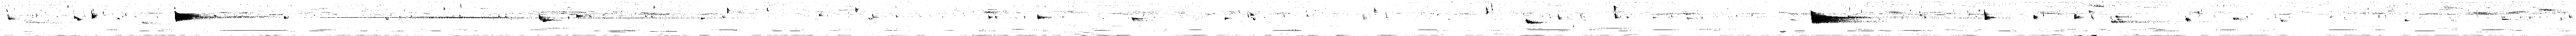meteor: (1810, 10, 1863, 23), (174, 10, 214, 21), (2111, 18, 2147, 23), (539, 13, 552, 23), (1526, 18, 1543, 25), (1985, 10, 1994, 20), (90, 10, 99, 20), (1037, 15, 1051, 20), (1132, 16, 1143, 21), (8, 13, 16, 20), (2075, 13, 2083, 20), (74, 16, 82, 21), (987, 15, 994, 20), (1557, 13, 1562, 20), (2185, 18, 2192, 23), (872, 13, 879, 18), (2280, 18, 2288, 21), (1615, 13, 1620, 18), (2032, 15, 2037, 20)
